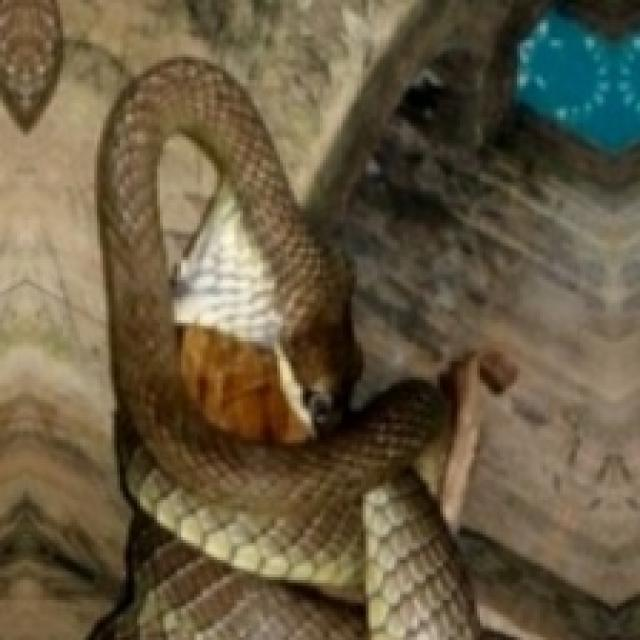paradise tree snake: (97, 57, 474, 637), (154, 131, 283, 429)
